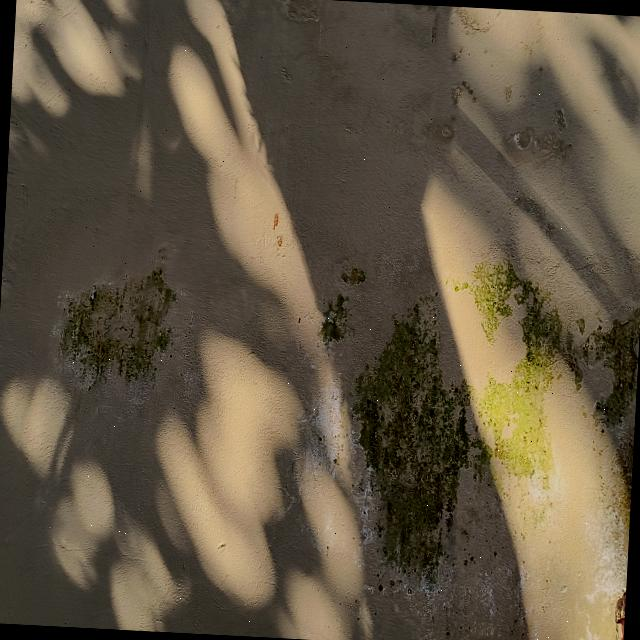stain_mould: (277, 260, 640, 640), (47, 240, 209, 420)
